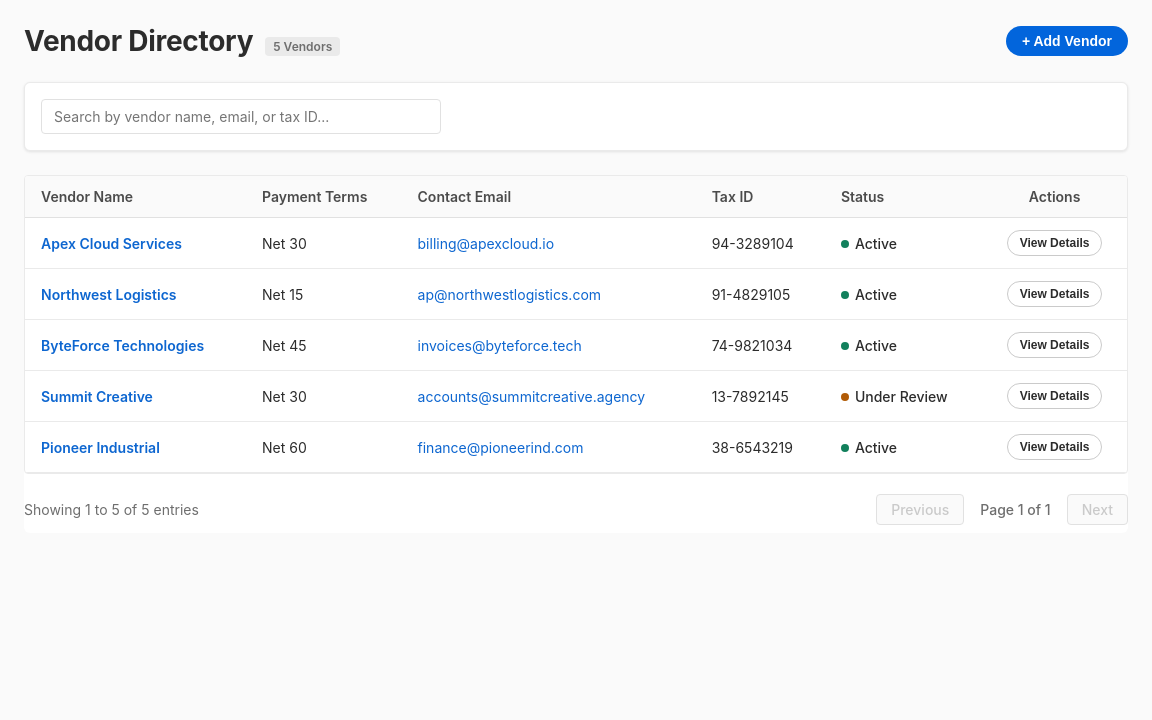
VendorsPage › Search & Filtering › clears search query and restores full vendor list
Expected: the text "Apex Cloud Services" is shown, [41,234,182,252]
In the search field with test id "vendor-search-input": (241, 116) [41,99,441,134], type "Pioneer"
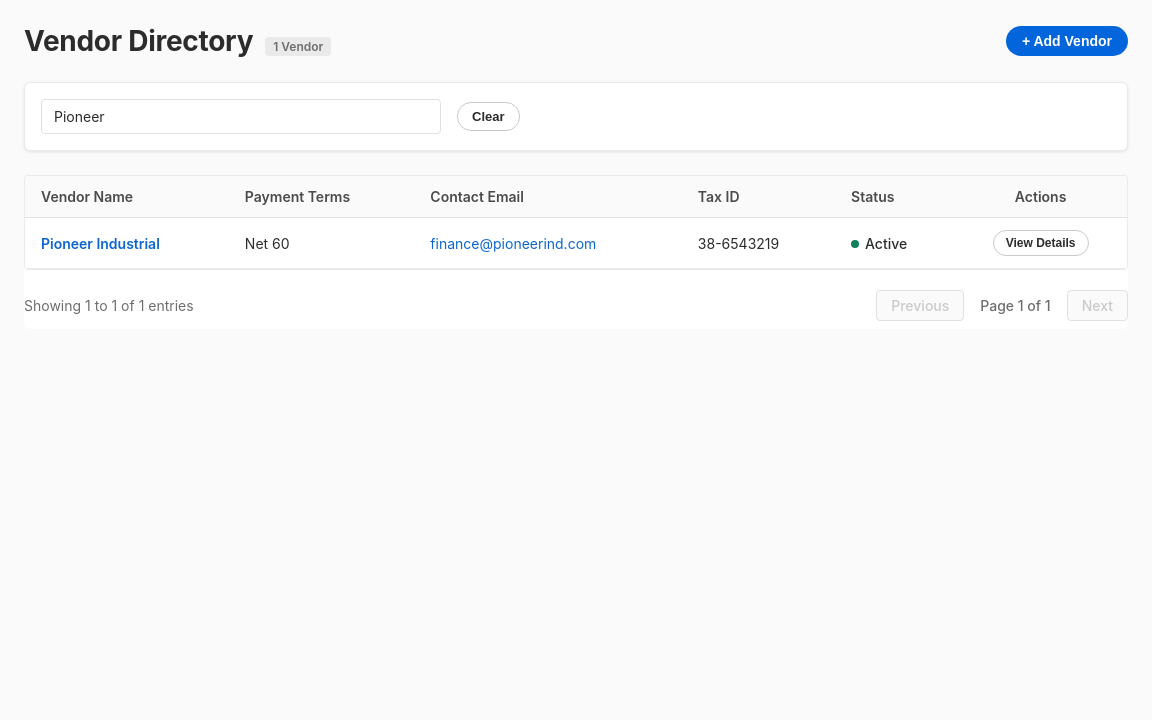
Result: the text "Apex Cloud Services" is gone
Click the button with test id "clear-search-button": (488, 116) [457,102,520,131]
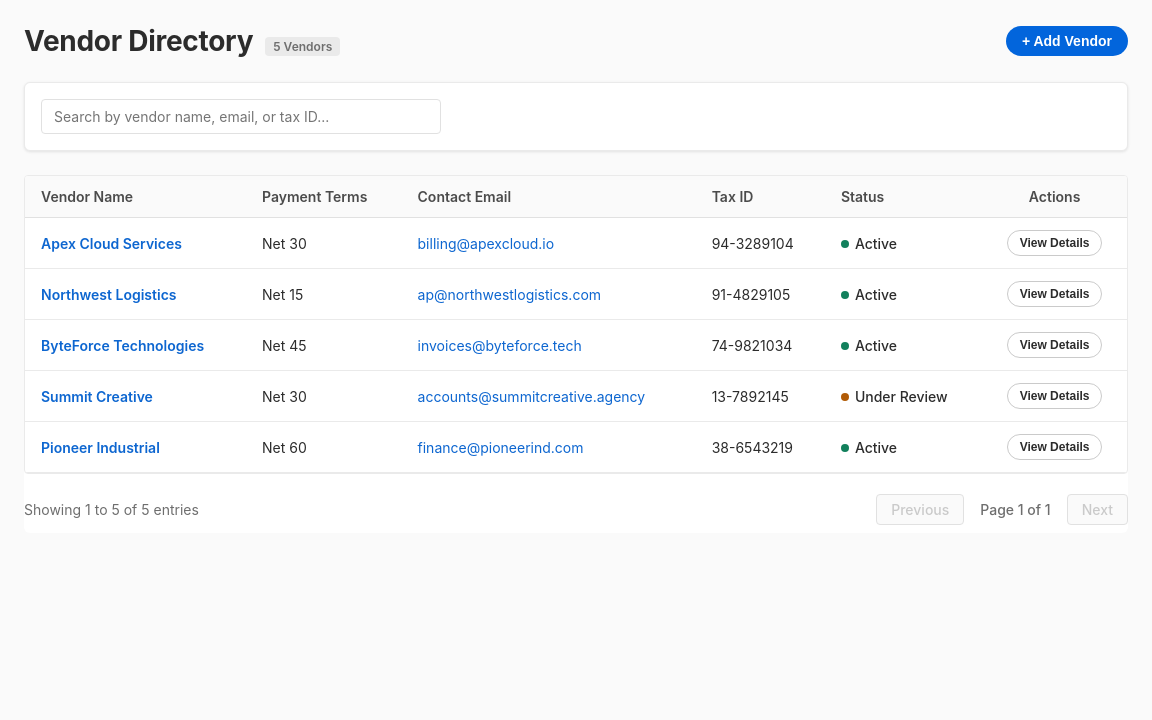
Expected: the text "Pioneer Industrial" is shown, [41,438,160,456]
Result: the text "Apex Cloud Services" is shown at [41,234,182,252]
